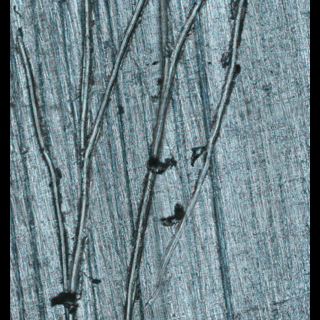d: (12, 0, 260, 320)
